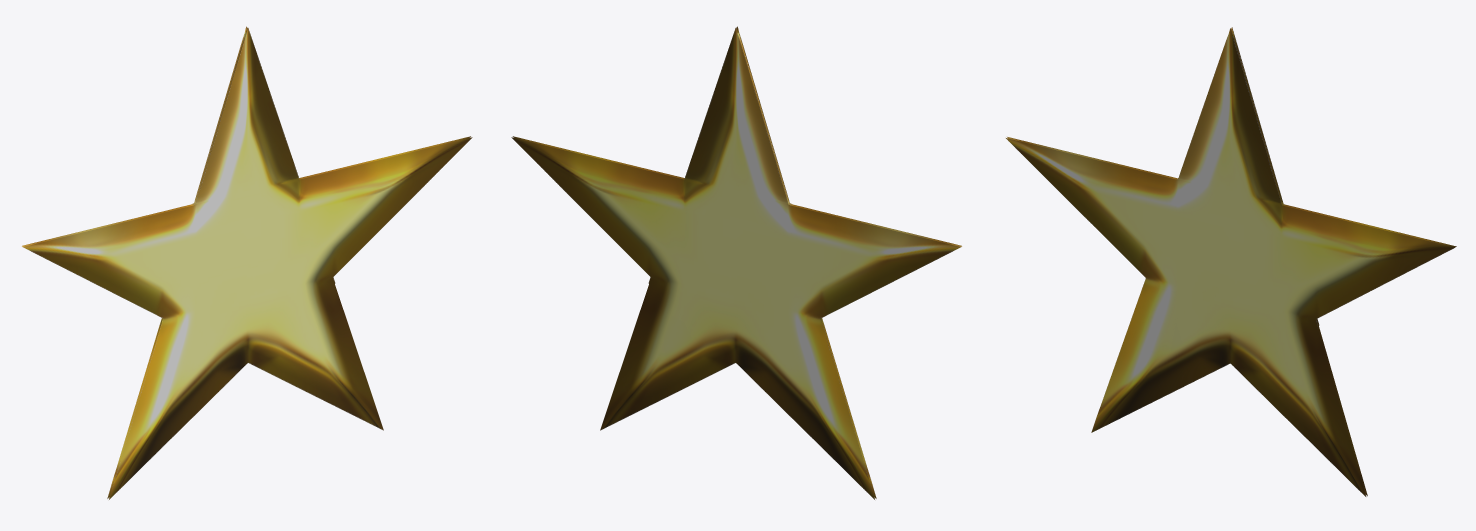
Rendered from star.fbx.
3 renders of one model, left to right at view 1: azimuth 30°, elevation 25°; view 2: azimuth 150°, elevation 25°; view 3: azimuth 330°, elevation 25°, orthographic.
Parts seen in each view (by area): view 1: polySurface1; view 2: polySurface1; view 3: polySurface1.
Part boxes in pixels (bbox=[...]): polySurface1: bbox=[22, 26, 472, 499]; polySurface1: bbox=[511, 26, 961, 499]; polySurface1: bbox=[1006, 27, 1456, 496].
Bounding box in the file's own units: 9.82 × 9.48 × 0.061.
1 material, 1 textured.
